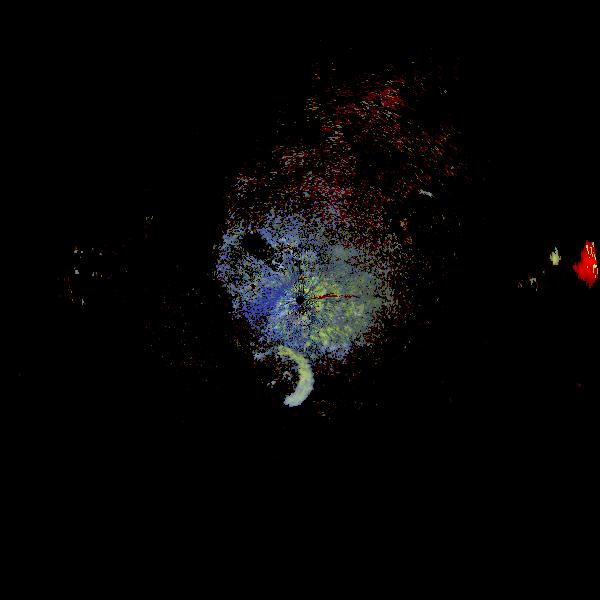roost: (252, 335, 336, 419), (254, 164, 299, 209)
